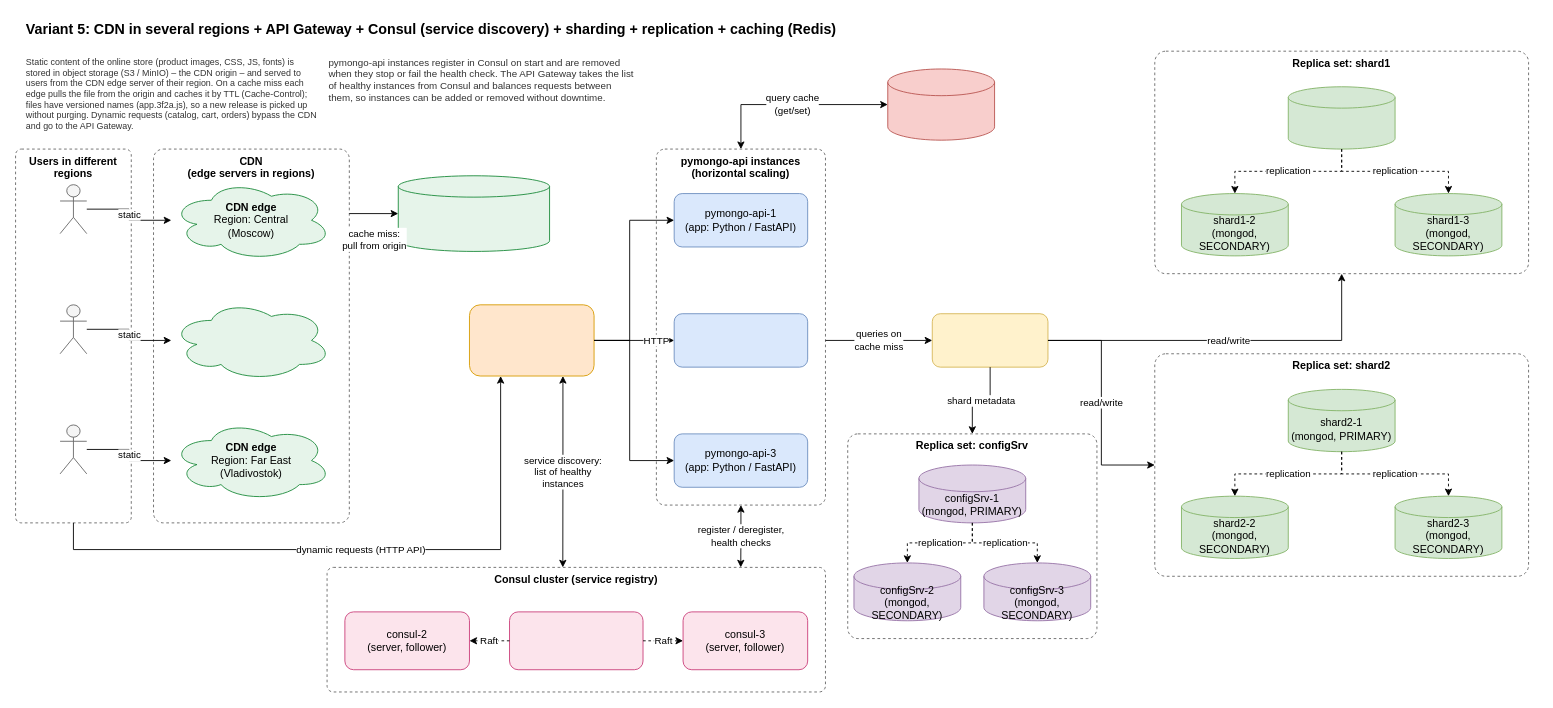
Image size: 1553x708. Some labels were removed from this diagram. The centre of each missing label's shape, as x and y in pixels:
"API Gateway (load balancer, round robin)" belongs at (531,340).
"CDN edge Region: Siberia (Novosibirsk)" belongs at (251,339).
"consul-1 (server, leader)" belongs at (576,640).
"mongos_router (mongos router)" belongs at (989,340).
"pymongo-api-2 (app: Python / FastAPI)" belongs at (740,340).
"redis (Redis cache)" belongs at (941,104).
"shard1-1 (mongod, PRIMARY)" belongs at (1341,117).
"Static storage (CDN origin) S3 / MinIO images, CSS, JS, fonts" belongs at (473,213).
"Users Moscow" belongs at (73,209).
"Users Novosibirsk" belongs at (73,329).
"Users Vladivostok" belongs at (73,449).
